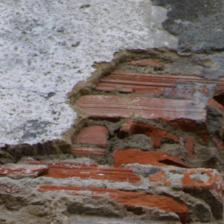Crack: (32, 20, 191, 122)
